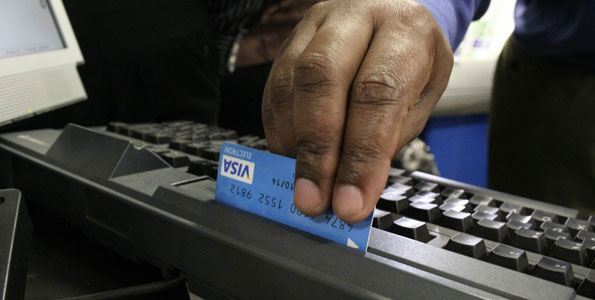tarjeta: (214, 141, 377, 257)
